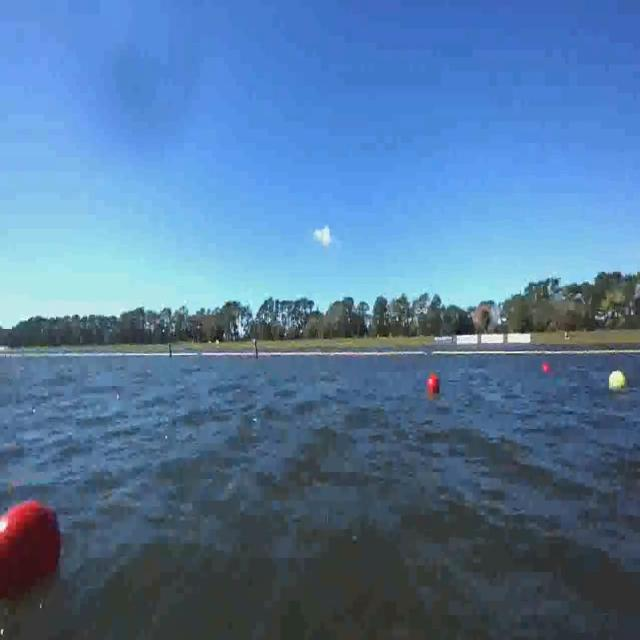red-buoy: (0, 495, 66, 585), (428, 376, 438, 396), (541, 361, 549, 372)
yellow-buoy: (610, 369, 628, 390)
